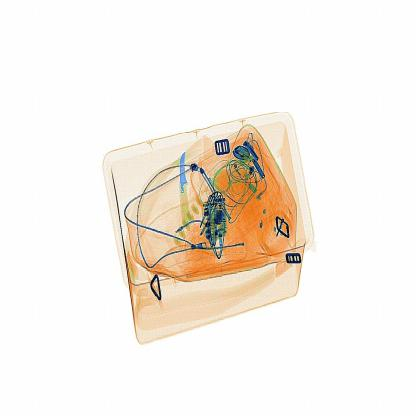wrench: (177, 138, 203, 238)
